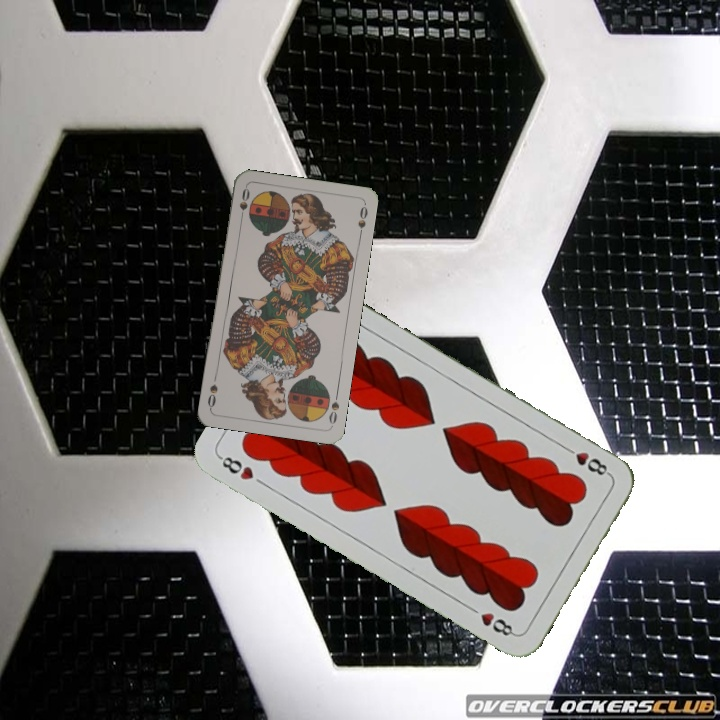H8: (215, 452, 269, 489), (560, 442, 613, 479)
SO: (235, 184, 252, 224), (325, 388, 342, 428)
